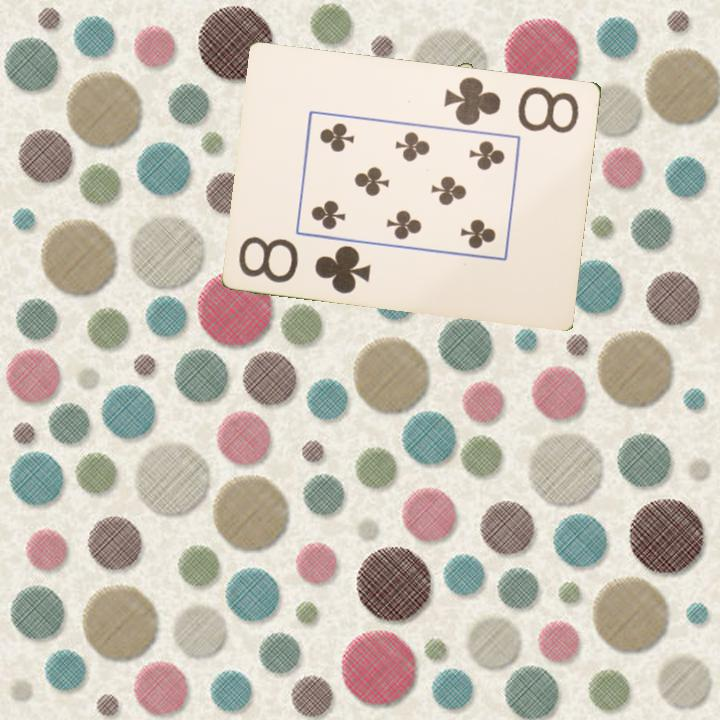8c: (441, 72, 582, 136), (235, 232, 374, 296)
